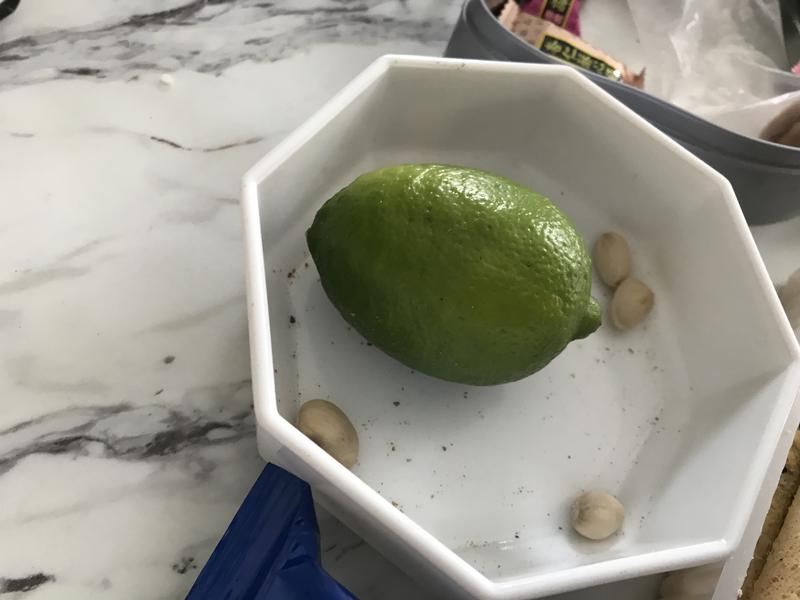lime: (298, 155, 613, 393)
